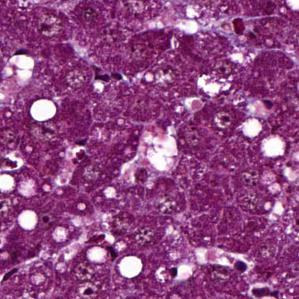ballooning: (140, 129, 180, 174)
